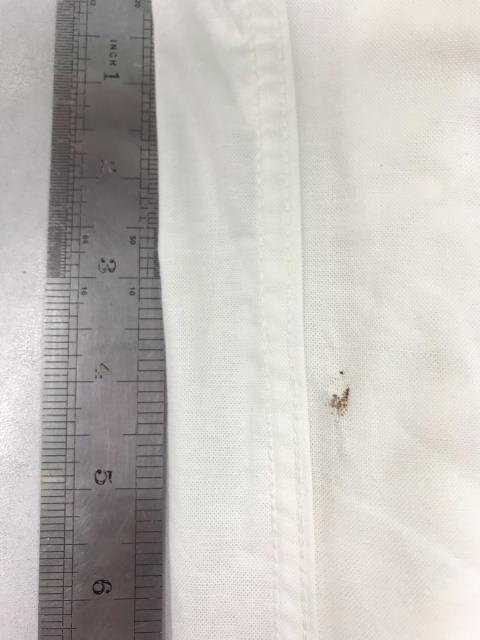Dirty_mark: (322, 368, 360, 418)
